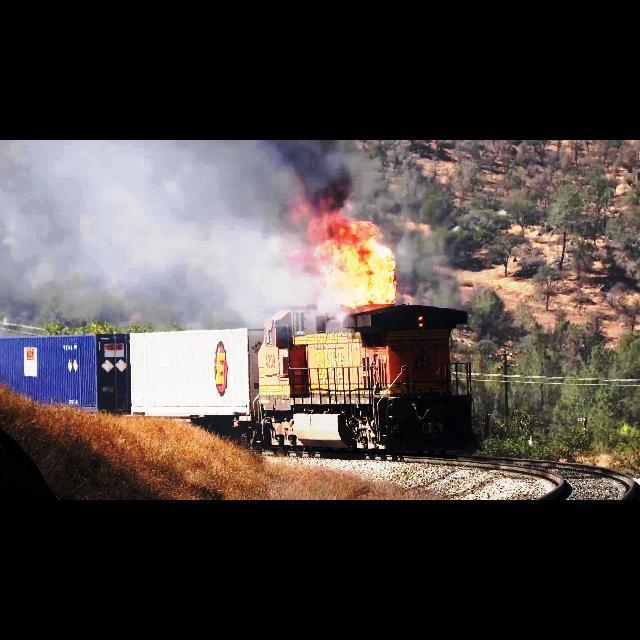Fire: (298, 186, 399, 308)
Smoke: (23, 140, 275, 284)
